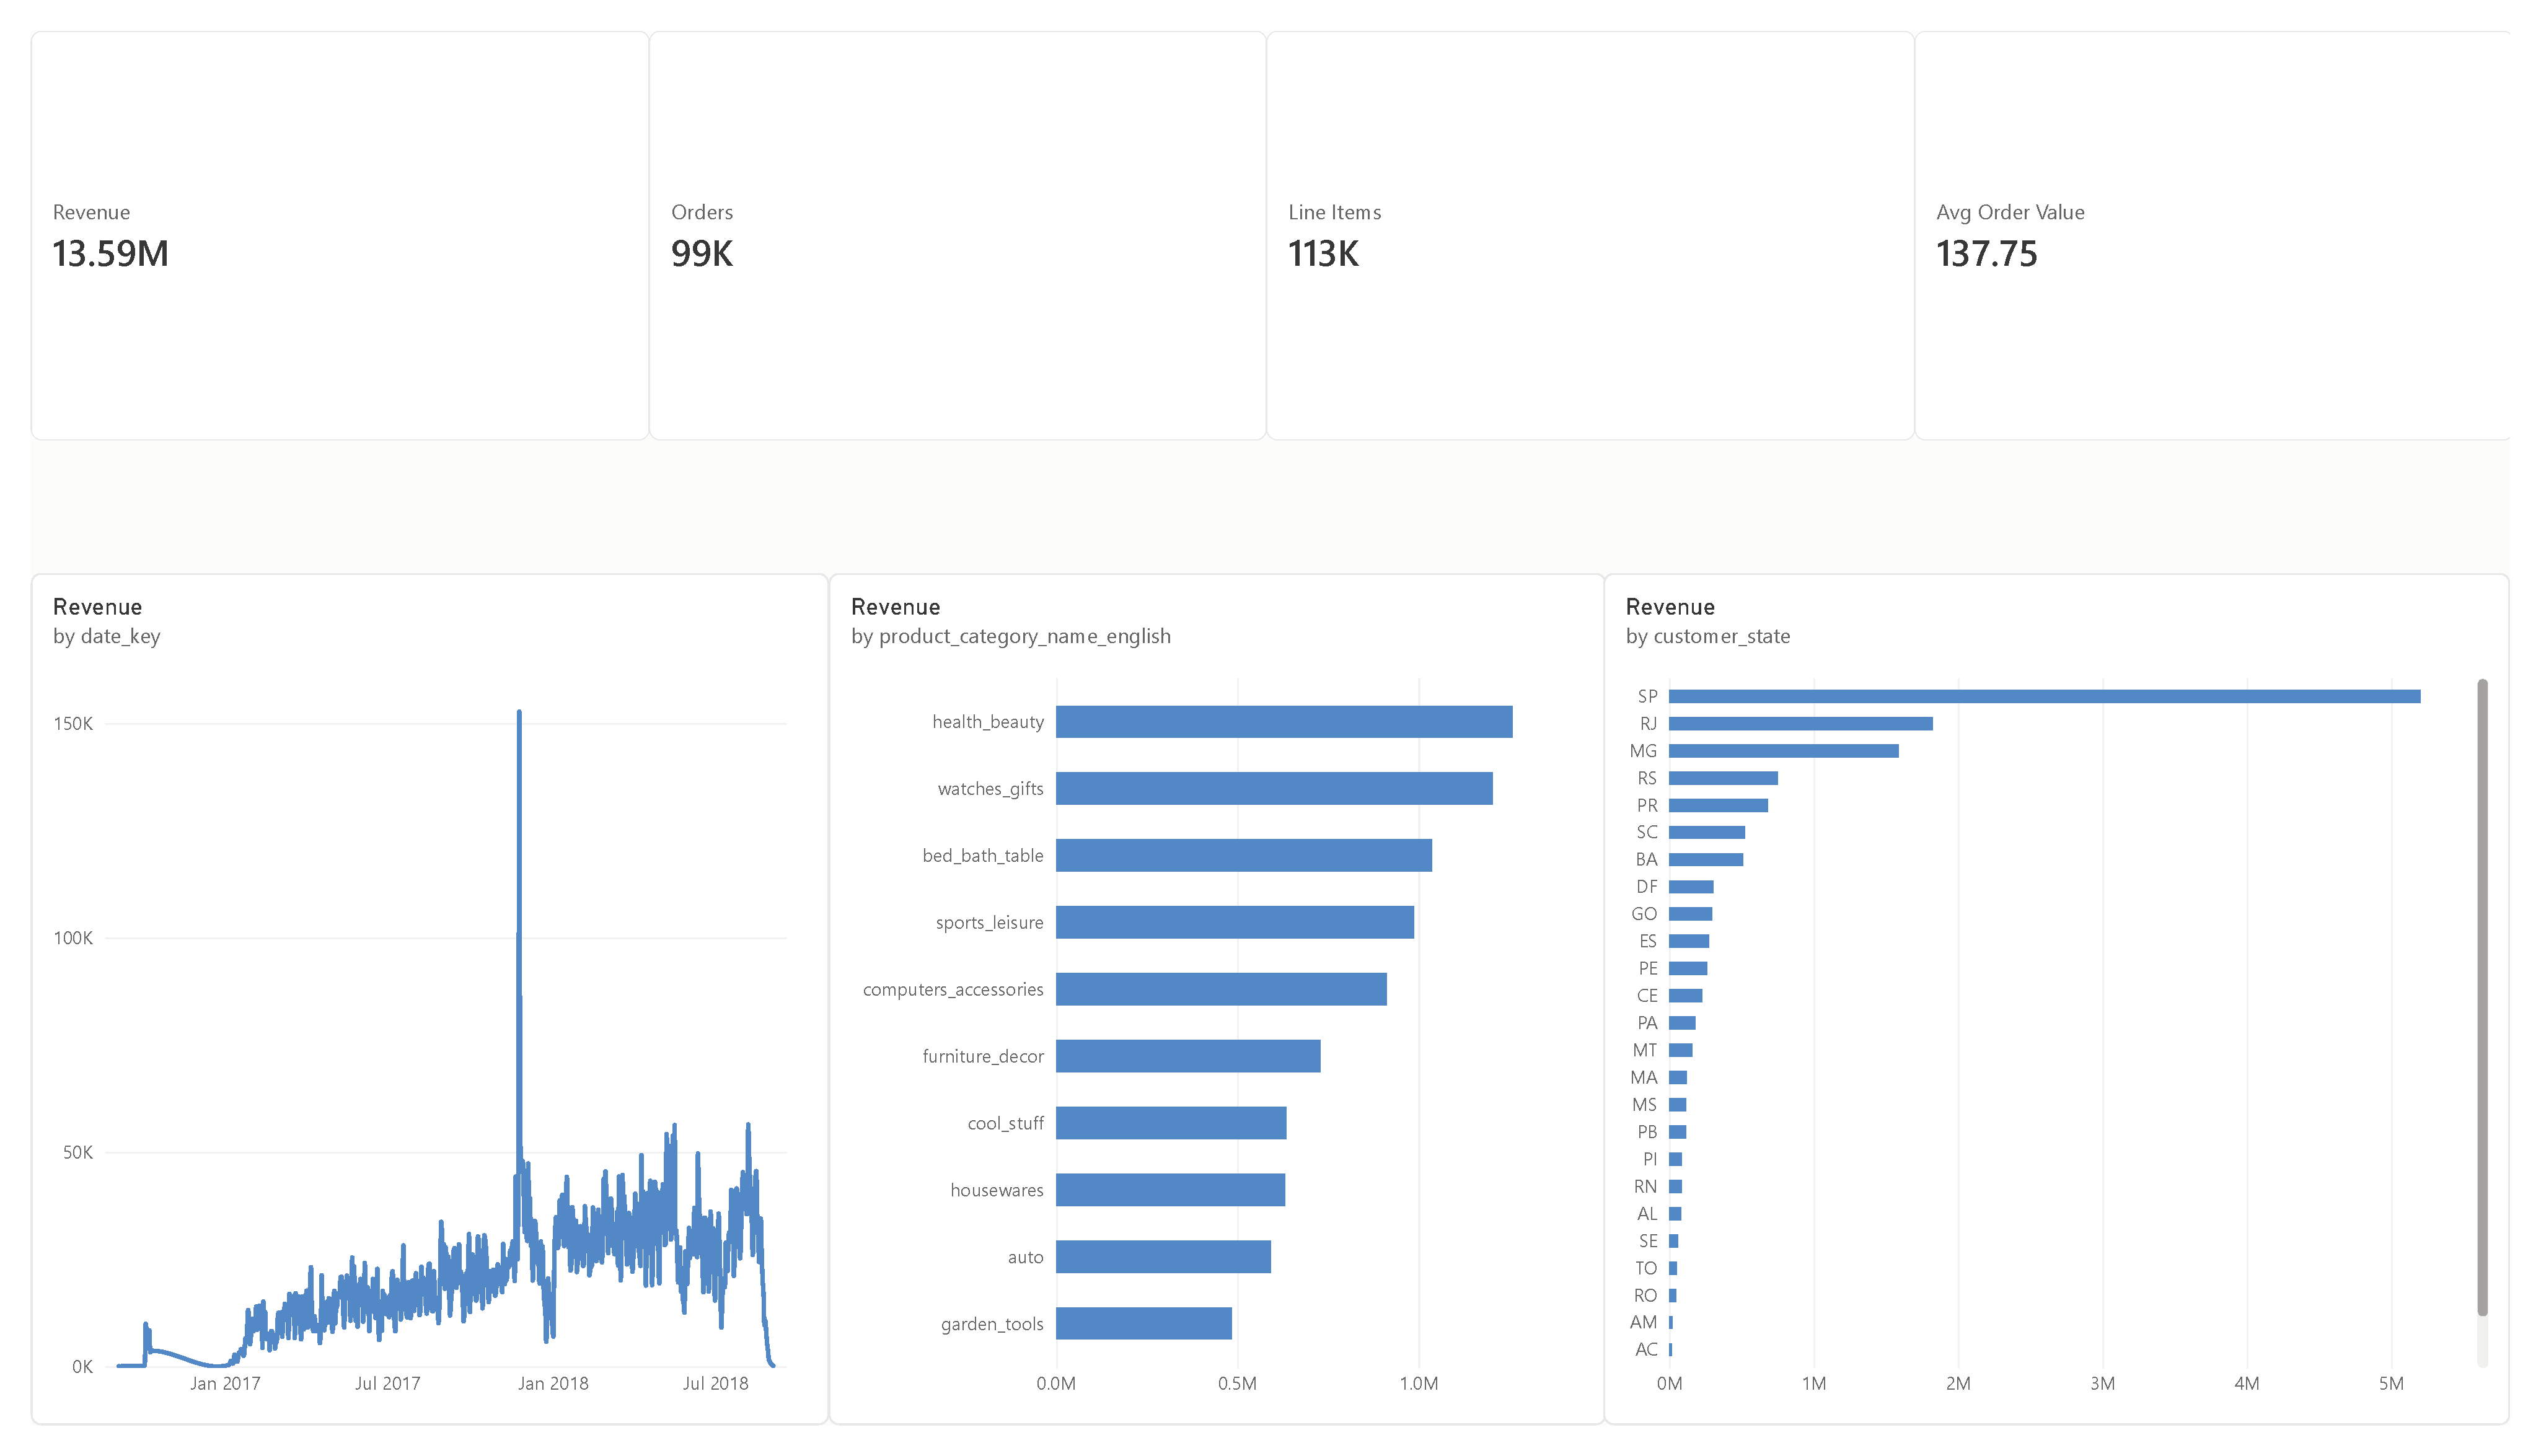

Layout of this report page (visuals, bound fields, positions):
{"tool":"powerbi","page":{"name":"Sales Overview","canvas":[1920,1080],"ordinal":0},"visuals":[{"type":"cardVisual","fields":{"Data":["fact_sales.Revenue"]},"box":[0,0,478.7,316.6],"z":0},{"type":"cardVisual","fields":{"Data":["fact_sales.Orders"]},"box":[478.7,0,478.7,316.6],"z":1000},{"type":"cardVisual","fields":{"Data":["fact_sales.Line Items"]},"box":[957.5,0,501.9,316.6],"z":2000},{"type":"cardVisual","fields":{"Data":["fact_sales.Avg Order Value"]},"box":[1459.4,0,463.3,316.6],"z":3000},{"type":"lineChart","fields":{"Category":["dim_date.date_key"],"Y":["fact_sales.Revenue"]},"box":[0,408.5,618.8,464.1],"z":4000},{"type":"barChart","fields":{"Category":["dim_product.product_category_name_english"],"Y":["fact_sales.Revenue"]},"box":[618.8,410.2,602.3,463.3],"z":5000},{"type":"clusteredBarChart","fields":{"Category":["dim_customer.customer_state"],"Y":["fact_sales.Revenue"]},"box":[1220.1,408.5,702.2,464.1],"z":6000}]}

Visuals, with their boxes on the page's 1920x1080 design canvas (x1, y1, x2, y2). These are canvas units, not pixel positions in the 2541x1456 screenshot, which may show the page scaled, cropped or inside an application window:
cardVisual - fact_sales.Revenue: bbox=[0, 0, 479, 317]
cardVisual - fact_sales.Orders: bbox=[479, 0, 957, 317]
cardVisual - fact_sales.Line Items: bbox=[958, 0, 1459, 317]
cardVisual - fact_sales.Avg Order Value: bbox=[1459, 0, 1923, 317]
lineChart - dim_date.date_key x fact_sales.Revenue: bbox=[0, 408, 619, 873]
barChart - dim_product.product_category_name_english x fact_sales.Revenue: bbox=[619, 410, 1221, 874]
clusteredBarChart - dim_customer.customer_state x fact_sales.Revenue: bbox=[1220, 408, 1922, 873]
